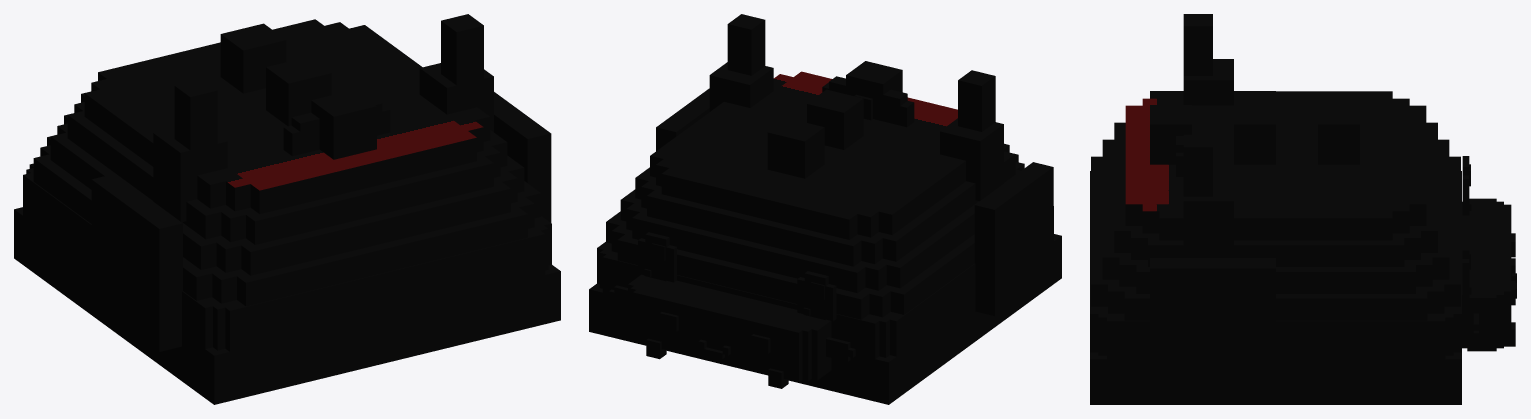
File: hat_little_dragon.obj
The picture shows the model from 3 angles, left to right: view 1: azimuth 30°, elevation 25°; view 2: azimuth 150°, elevation 25°; view 3: azimuth 270°, elevation 25°; orthographic projection. The views are drawn at different scales.
Bounding box in the file's own units: 0.625 × 0.4031 × 0.6347.
